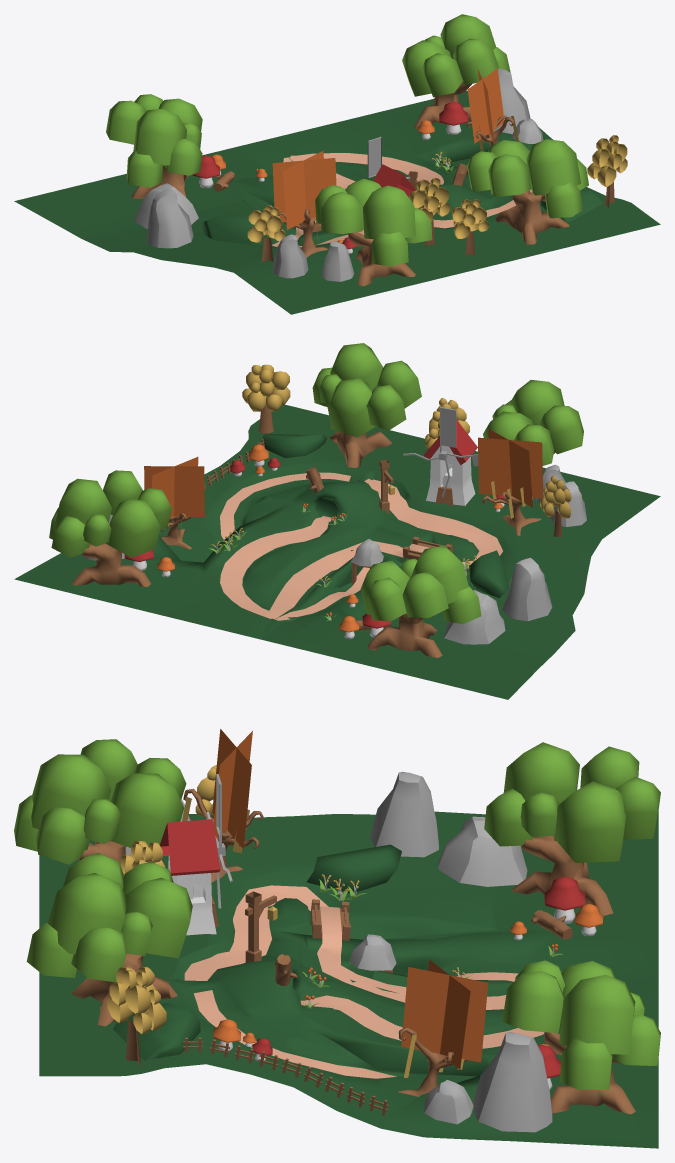
Rendered from Environment.fbx.
3 views of the same model, one above another, from view 1: azimuth 30°, elevation 25°; view 2: azimuth 150°, elevation 25°; view 3: azimuth 270°, elevation 25° (orthographic). The views are drawn at different scales.
Parts seen in each view (by area): view 1: Ground, GreenTree3, GreenTree4, GreenTree2, GreenTree1, OrangeTree2, OrangeTree1, TallRock2, YellowTree1, polySurface685, YellowTree4, YellowTree3 (+12 smaller); view 2: Ground, GreenTree1, GreenTree2, GreenTree3, GreenTree4, OrangeTree2, Windmill, OrangeTree1, Right_Lane_1, TallRock2, Right_Lane_2, YellowTree1 (+11 smaller); view 3: Ground, GreenTree2, GreenTree3, GreenTree4, GreenTree1, OrangeTree1, TallRock1, Windmill, OrangeTree2, TallRock2, RoundRock3, YellowTree1 (+16 smaller).
Boxes of the visible parts, left/top/right/bottom form: Ground: left=14, top=90, right=660, bottom=314; GreenTree3: left=467, top=139, right=588, bottom=244; GreenTree4: left=315, top=178, right=432, bottom=286; GreenTree2: left=106, top=94, right=202, bottom=198; GreenTree1: left=402, top=14, right=510, bottom=129; OrangeTree2: left=272, top=151, right=336, bottom=257; OrangeTree1: left=466, top=68, right=518, bottom=150; TallRock2: left=147, top=188, right=193, bottom=248; YellowTree1: left=587, top=135, right=627, bottom=207; polySurface685: left=202, top=212, right=267, bottom=244; YellowTree4: left=247, top=205, right=285, bottom=262; YellowTree3: left=409, top=177, right=450, bottom=248; Ground: left=14, top=404, right=660, bottom=699; GreenTree1: left=49, top=470, right=172, bottom=586; GreenTree2: left=360, top=545, right=481, bottom=658; GreenTree3: left=312, top=343, right=421, bottom=467; GreenTree4: left=483, top=380, right=583, bottom=465; OrangeTree2: left=478, top=428, right=543, bottom=535; Windmill: left=403, top=407, right=478, bottom=506; OrangeTree1: left=144, top=456, right=204, bottom=549; Right_Lane_1: left=269, top=479, right=492, bottom=612; TallRock2: left=502, top=557, right=552, bottom=621; Right_Lane_2: left=282, top=479, right=502, bottom=614; YellowTree1: left=242, top=364, right=290, bottom=433; Ground: left=39, top=811, right=658, bottom=1148; GreenTree2: left=484, top=742, right=660, bottom=915; GreenTree3: left=26, top=853, right=192, bottom=1026; GreenTree4: left=14, top=739, right=186, bottom=867; GreenTree1: left=502, top=960, right=660, bottom=1114; OrangeTree1: left=398, top=960, right=488, bottom=1096; TallRock1: left=473, top=1032, right=552, bottom=1132; Windmill: left=160, top=774, right=232, bottom=935; OrangeTree2: left=182, top=729, right=263, bottom=882; TallRock2: left=370, top=771, right=438, bottom=857; RoundRock3: left=438, top=816, right=527, bottom=886; YellowTree1: left=107, top=966, right=166, bottom=1066.
Size of the model in its own units: 83.15 by 23.16 by 66.59.
